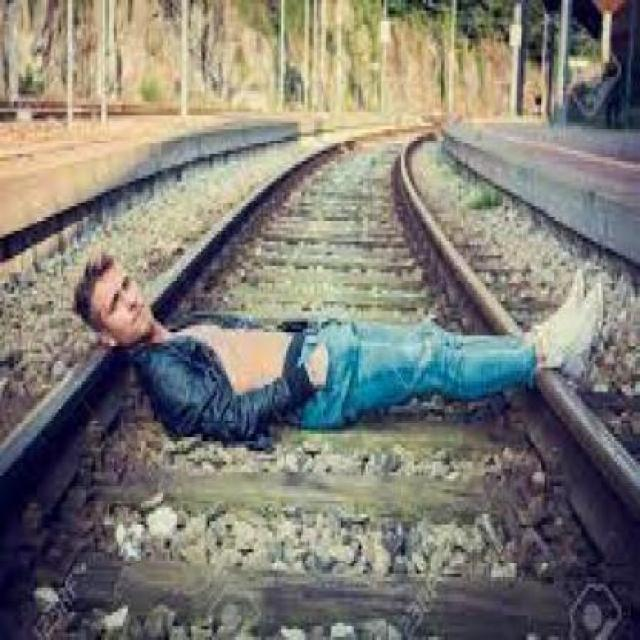danger: (64, 241, 619, 468)
rail: (2, 103, 640, 637)
